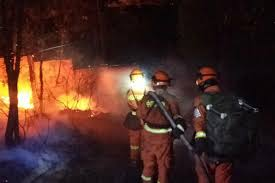fire: (1, 83, 36, 111), (56, 93, 90, 112)
smoke: (94, 63, 129, 120), (167, 61, 193, 109)
